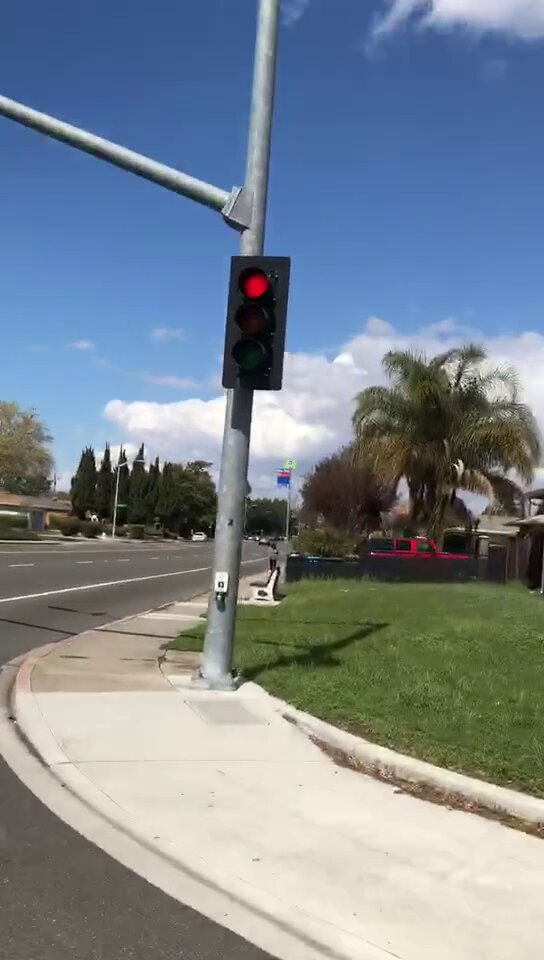red_light: (228, 258, 282, 390)
